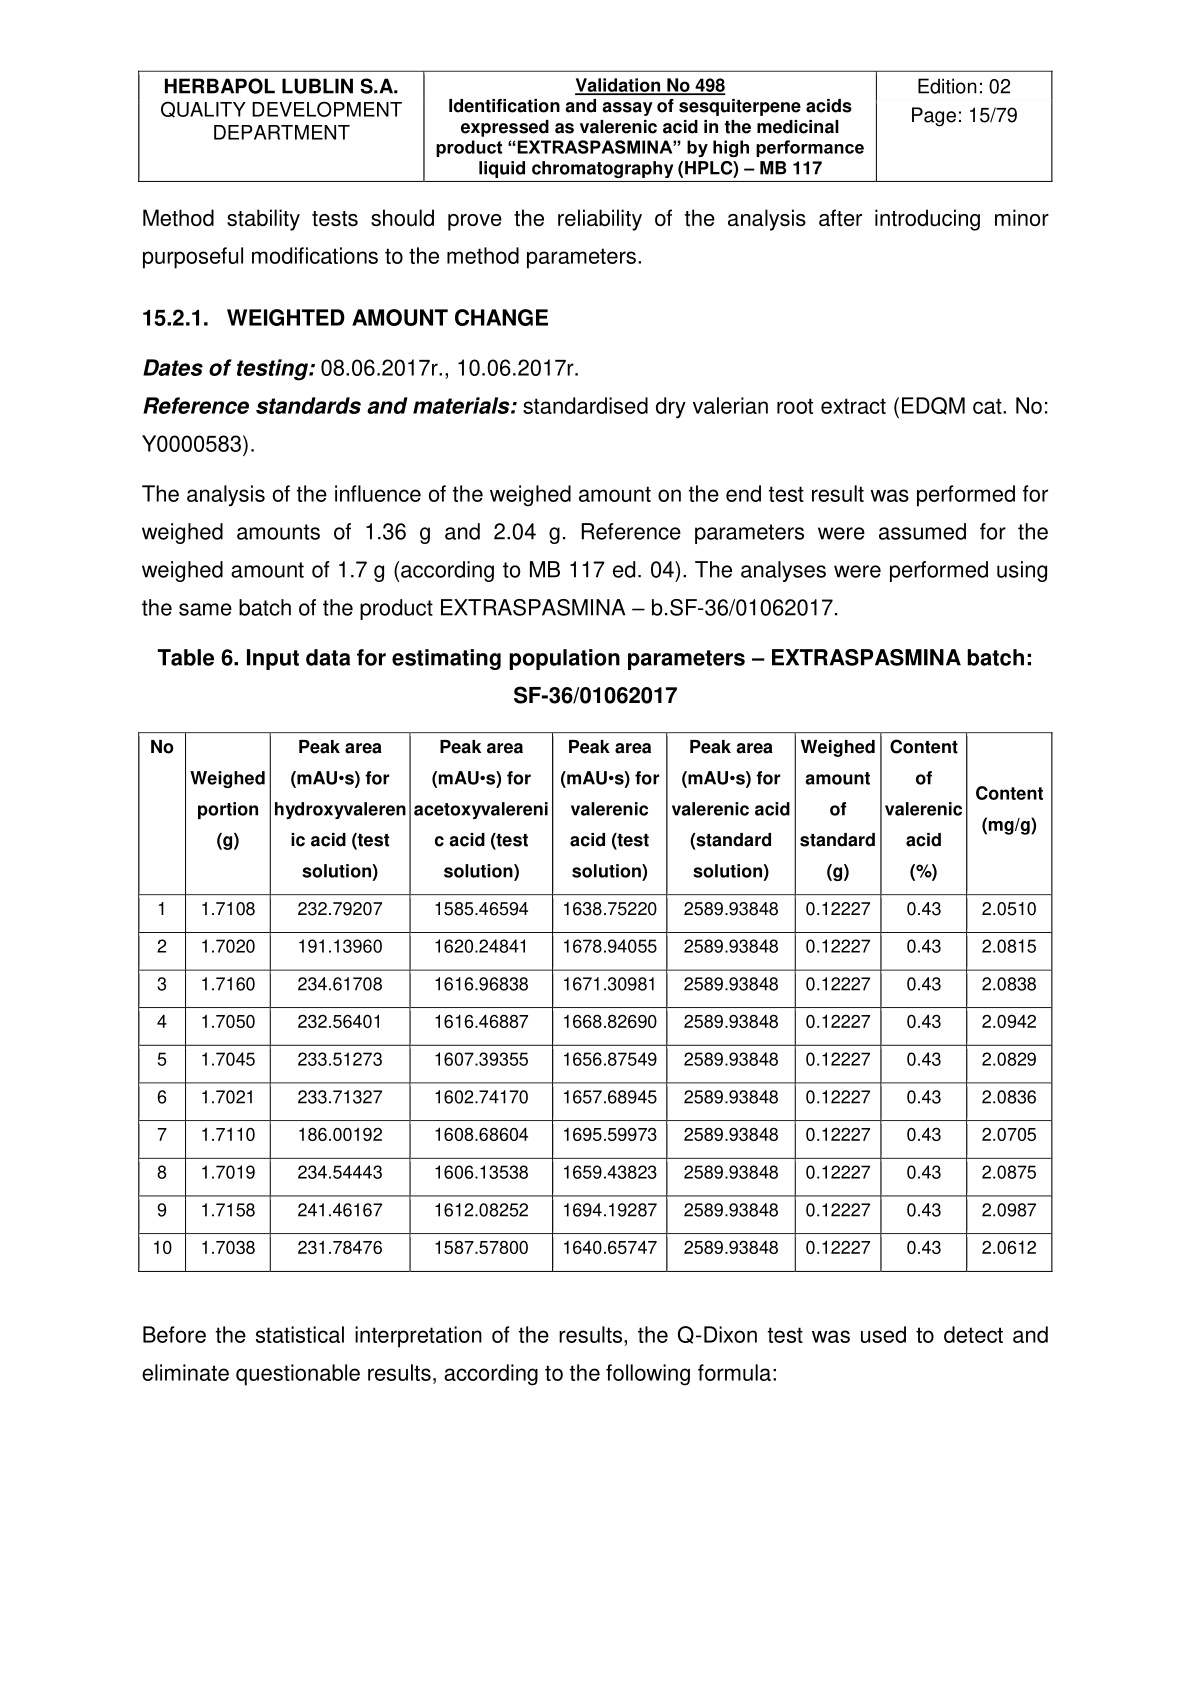full_lined: (137, 731, 1053, 1273), (137, 70, 1054, 183)
